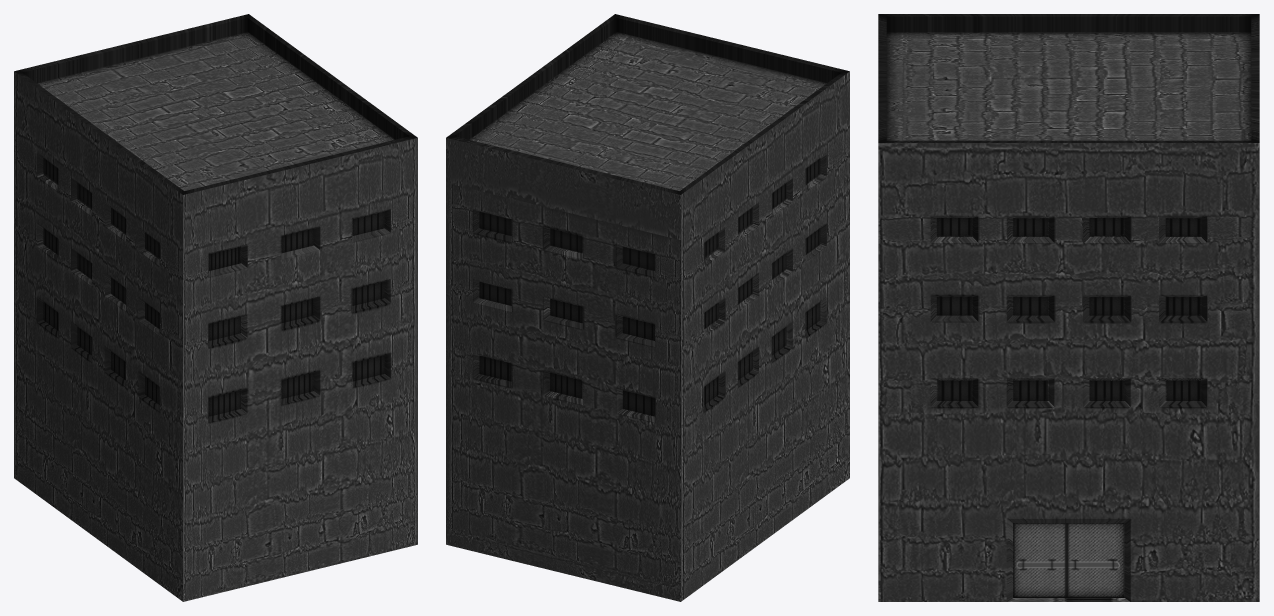
Rendered from prision.FBX.
3 renders of one model, left to right at view 1: azimuth 30°, elevation 25°; view 2: azimuth 150°, elevation 25°; view 3: azimuth 270°, elevation 25°, orthographic. The views are drawn at different scales.
Visible parts, largest first — view 1: Box001; view 2: Box001; view 3: Box001.
Part boxes in pixels (x1,y1,x2,y2): Box001: (14,14,417,601); Box001: (446,14,849,601); Box001: (878,14,1259,601).
Size of the model in its own units: 262 by 435 by 327.
